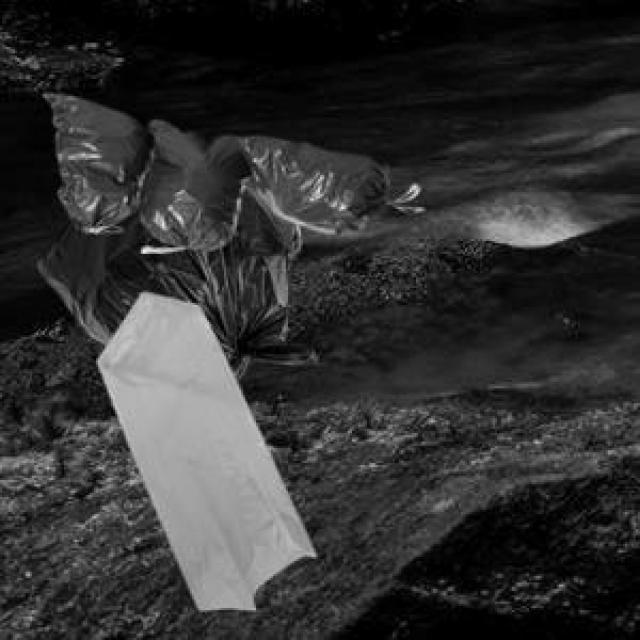miscellaneous trash: (34, 152, 314, 376), (41, 90, 384, 250)
